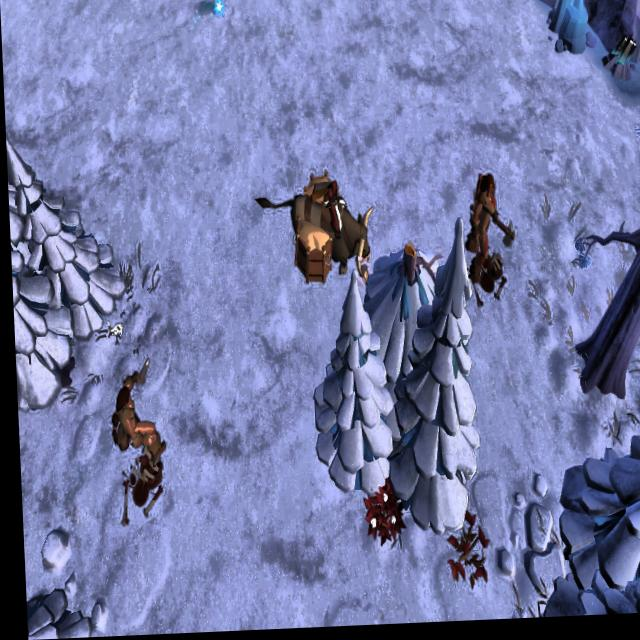enemy_factionKeeper: (103, 365, 164, 463), (461, 170, 510, 288)
fiber_t5: (359, 481, 402, 547)
ore_t4: (609, 35, 638, 81)
rock_t4: (546, 0, 596, 59)
